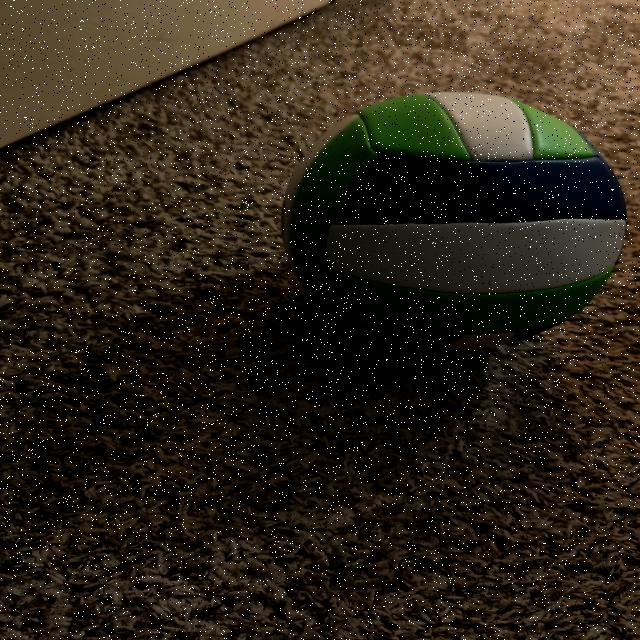ball: (292, 111, 610, 349)
